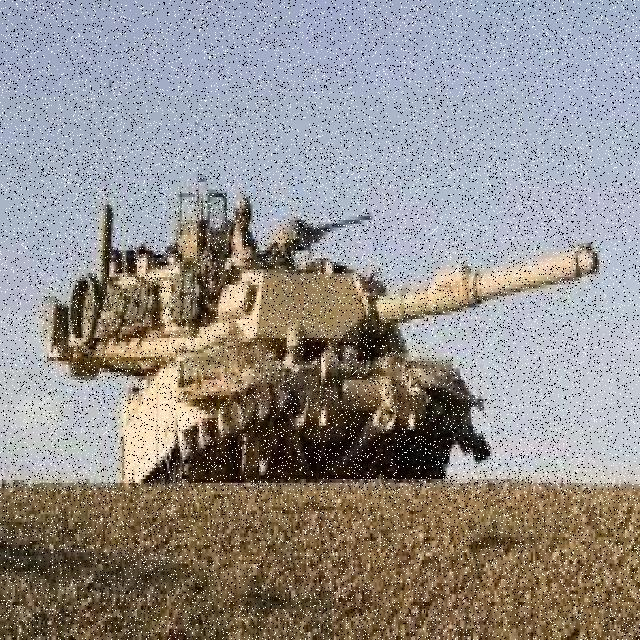MIL_MBT: (40, 149, 591, 498)
